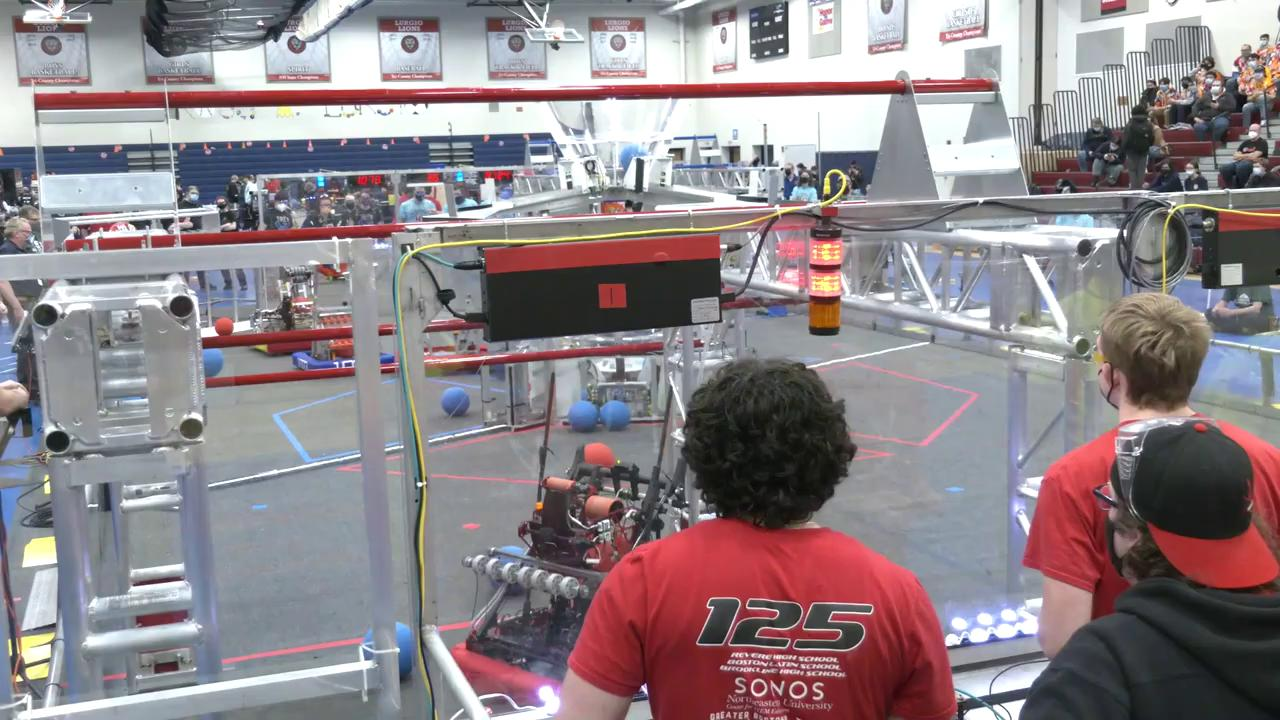robot: (514, 378, 708, 600), (460, 555, 557, 703), (250, 264, 333, 357), (292, 327, 397, 372)
